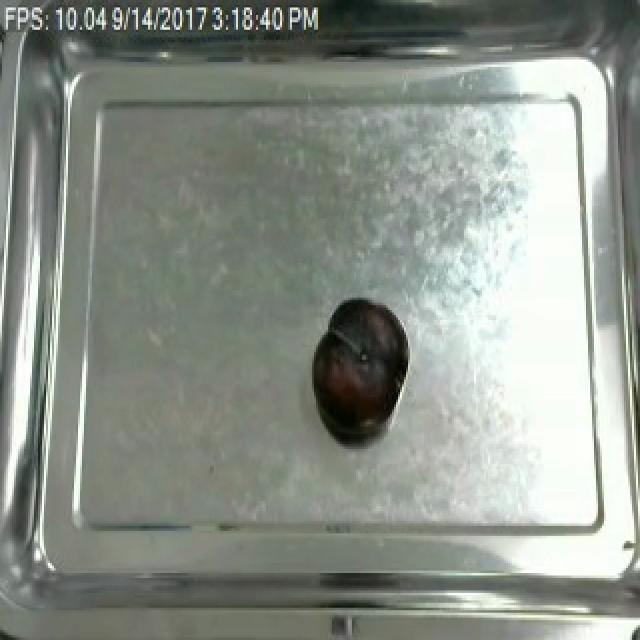Fruit: (308, 293, 406, 437)
